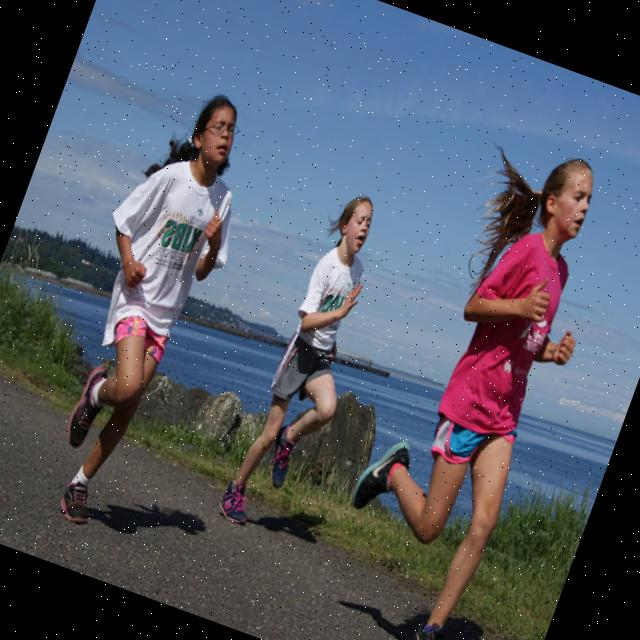Person: (304, 127, 636, 640), (9, 74, 280, 539), (215, 186, 407, 542)
